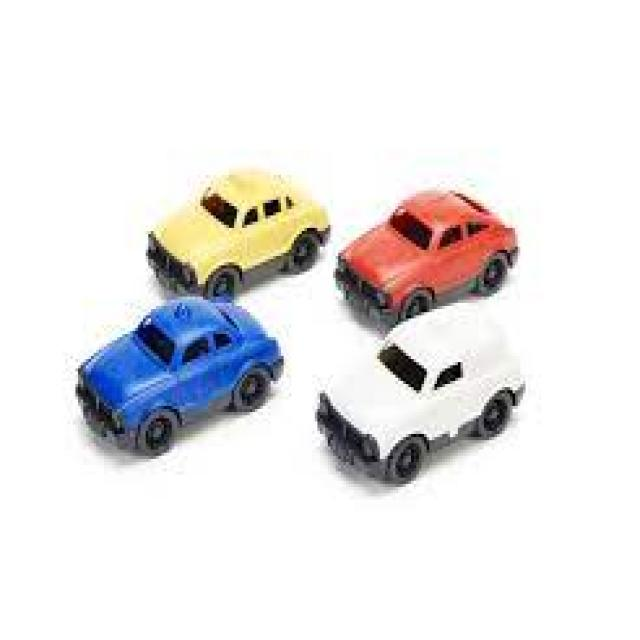Car: (315, 315, 523, 484), (75, 297, 281, 450), (338, 190, 515, 325), (148, 169, 328, 293)
